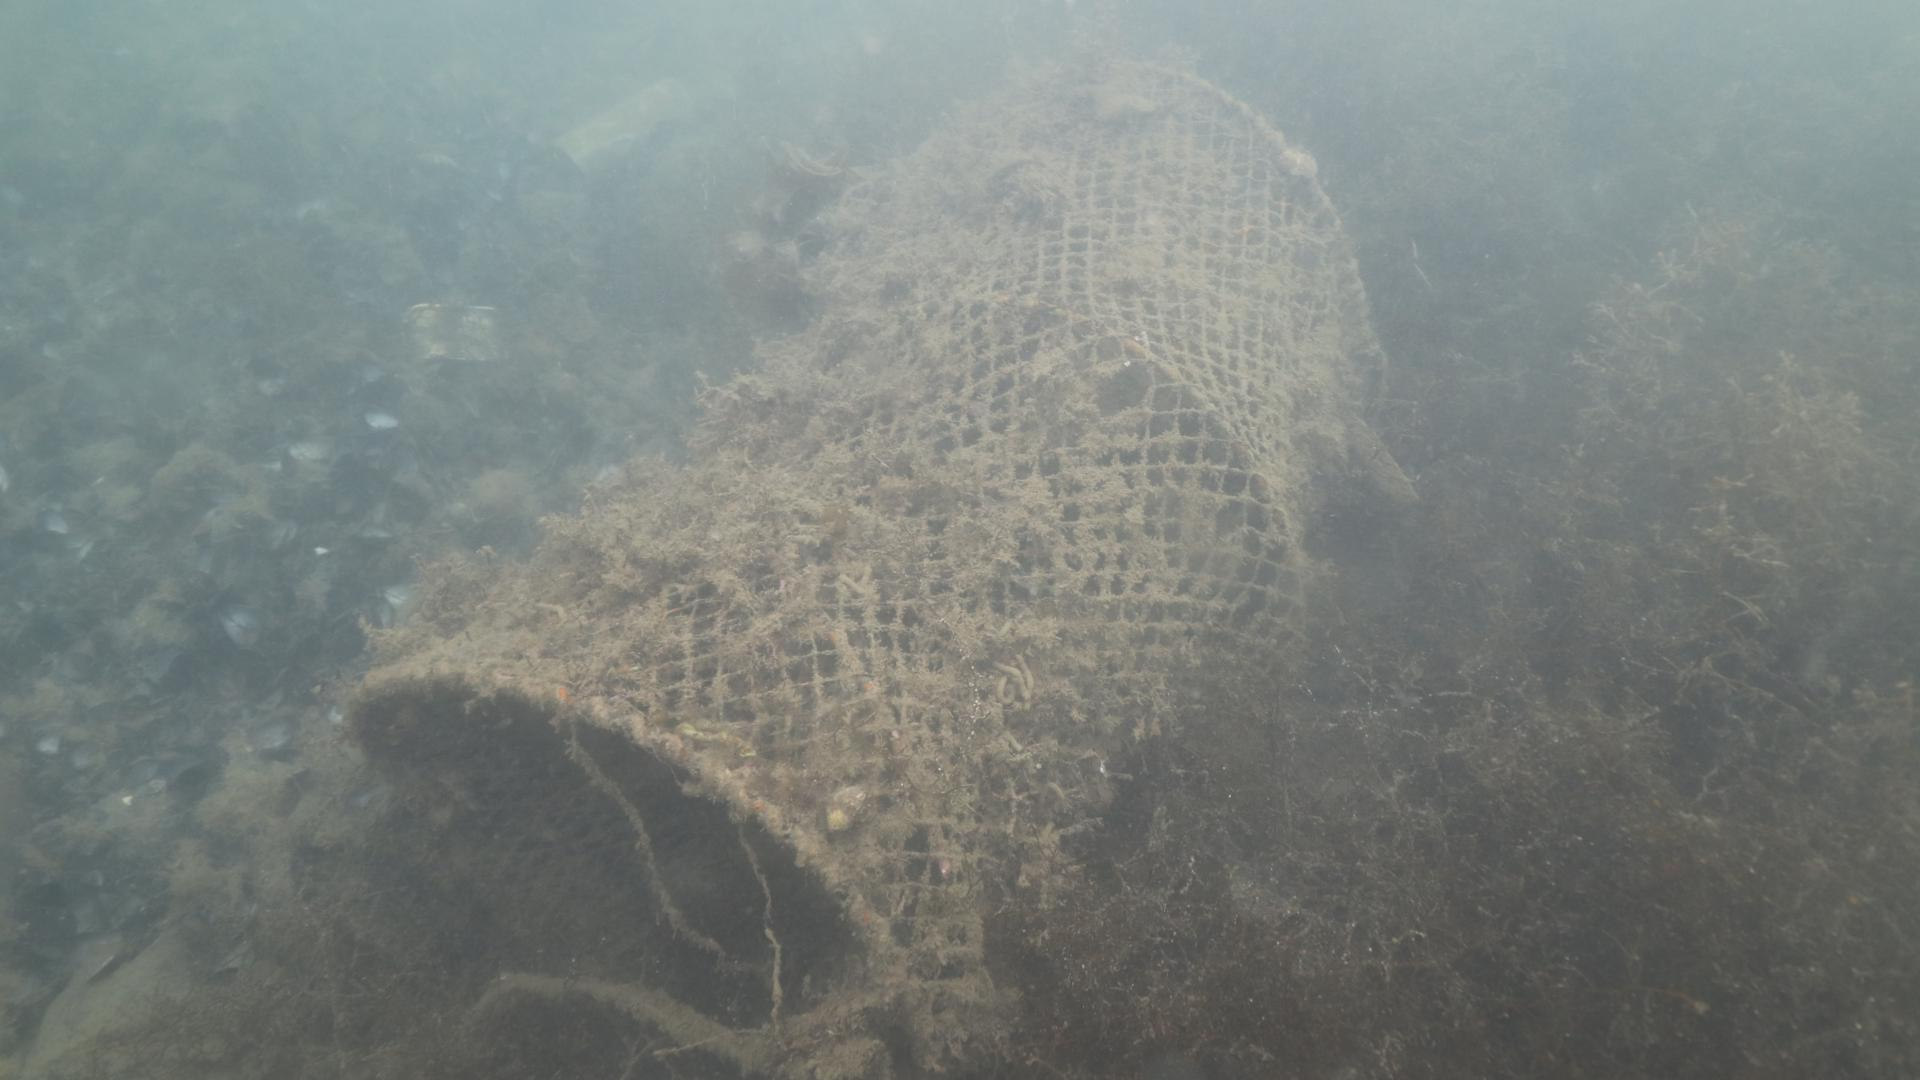spring fish trap: (338, 59, 1382, 1080)
